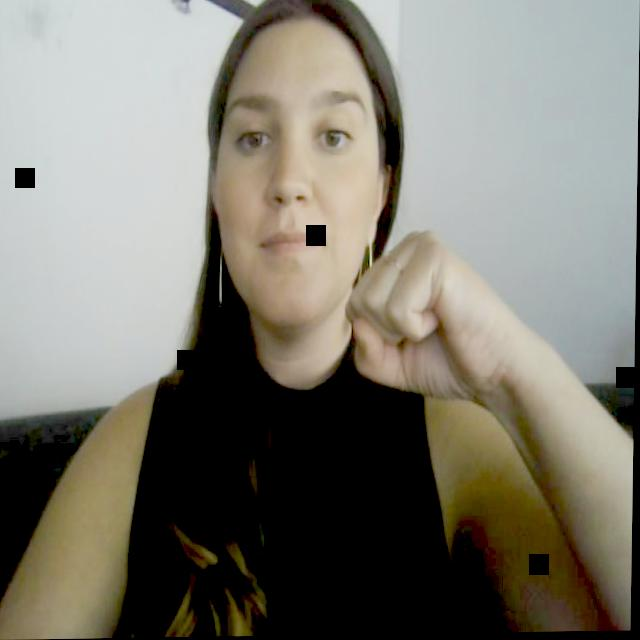Rock: (342, 220, 535, 420)
